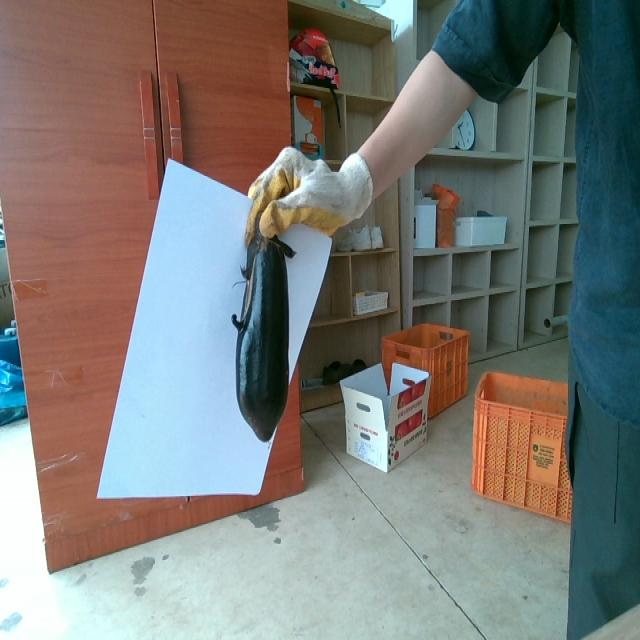Egg plant: (232, 239, 288, 440)
